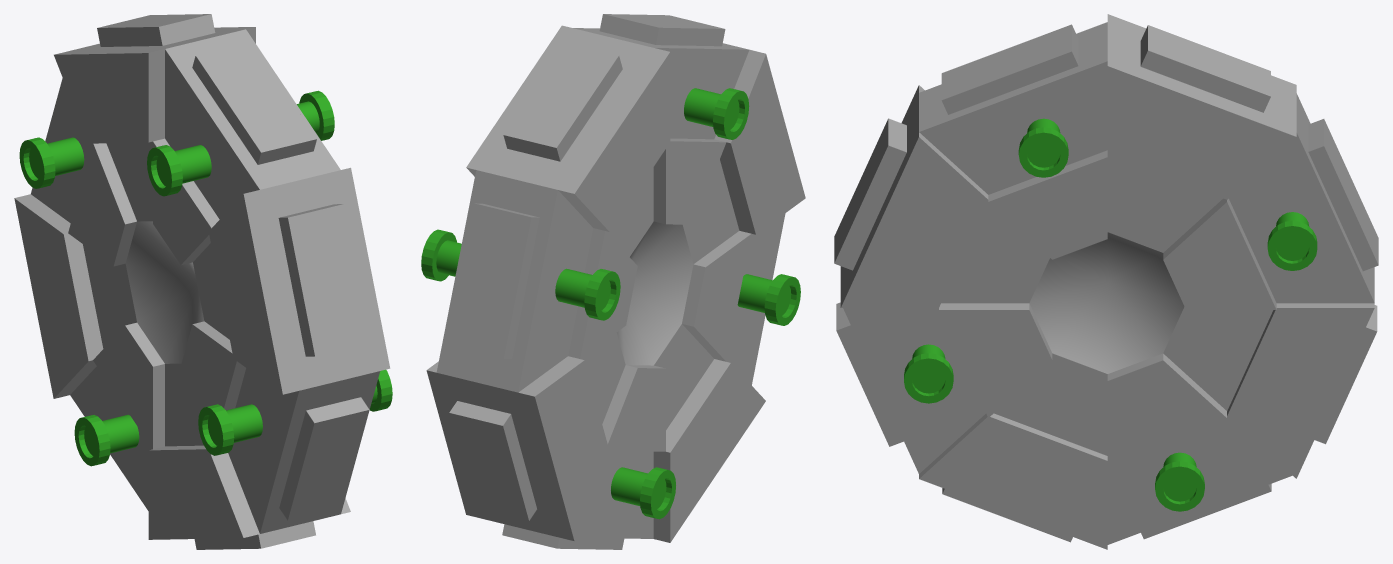
The model's file is Stonewheel.fbx.
The picture shows the model from 3 angles, left to right: view 1: azimuth 30°, elevation 25°; view 2: azimuth 150°, elevation 25°; view 3: azimuth 270°, elevation 25°; orthographic projection.
Visible parts, largest first — view 1: actualWheel1, pCylinder8, pCylinder5, pCylinder7, pCylinder6, pCylinder1, pCylinder4; view 2: actualWheel1, pCylinder7, pCylinder6, pCylinder8, pCylinder5, pCylinder2; view 3: actualWheel1, pCylinder1, pCylinder4, pCylinder2, pCylinder3.
Boxes of the visible parts, box(x1,y1,x2,y2) form: actualWheel1: box(14, 14, 390, 549); pCylinder8: box(147, 145, 211, 196); pCylinder5: box(198, 404, 262, 455); pCylinder7: box(19, 137, 84, 188); pCylinder6: box(74, 414, 139, 466); pCylinder1: box(297, 90, 334, 140); pCylinder4: box(369, 369, 392, 411); actualWheel1: box(426, 14, 805, 549); pCylinder7: box(555, 268, 620, 320); pCylinder6: box(611, 467, 675, 519); pCylinder8: box(684, 88, 749, 139); pCylinder5: box(737, 274, 800, 325); pCylinder2: box(421, 229, 461, 281); actualWheel1: box(834, 14, 1378, 549); pCylinder1: box(1018, 118, 1068, 177); pCylinder4: box(904, 344, 953, 403); pCylinder2: box(1267, 212, 1317, 270); pCylinder3: box(1155, 452, 1204, 511).
Bounding box in the file's own units: 17.22 × 48.18 × 48.37.
